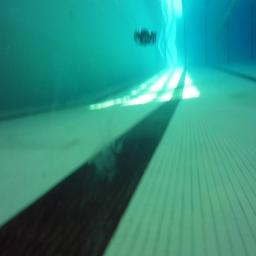Full: (134, 29, 157, 46), (134, 28, 156, 44)
